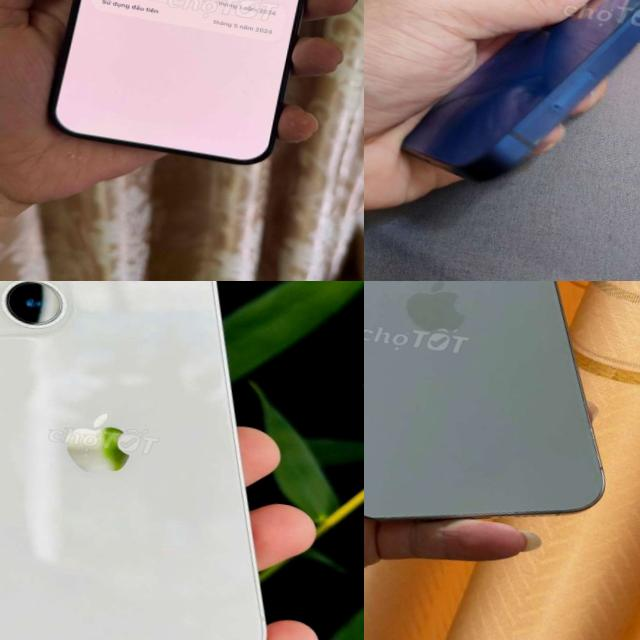gen_12_13: (0, 281, 326, 640), (391, 0, 640, 226)
gen_15: (44, 0, 356, 188)
gen_16: (364, 281, 604, 520)
